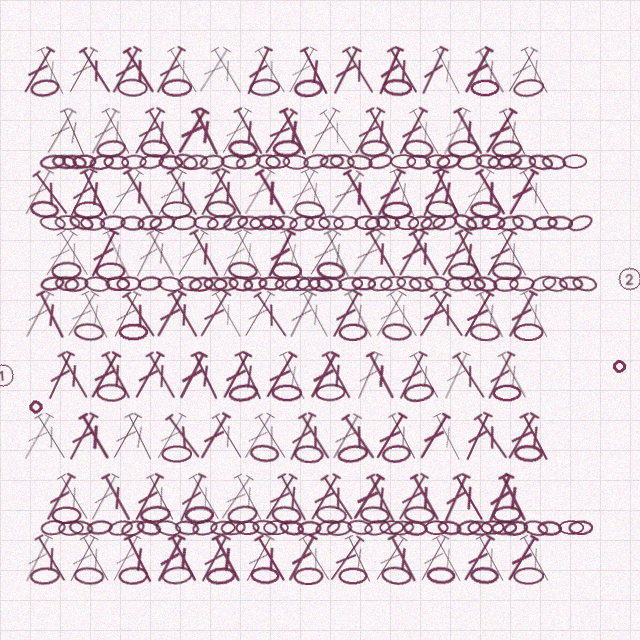chain: (402, 381, 435, 404), (226, 503, 259, 526), (512, 77, 545, 99), (336, 443, 369, 465), (270, 504, 303, 526), (29, 77, 61, 99), (95, 138, 127, 160), (227, 382, 259, 404), (402, 138, 435, 159), (380, 565, 413, 586), (205, 199, 237, 220), (425, 199, 457, 220), (315, 260, 347, 281), (139, 504, 171, 525), (315, 504, 347, 525), (161, 565, 193, 586), (227, 138, 258, 159), (29, 199, 60, 220), (227, 260, 258, 281), (249, 443, 280, 464), (381, 443, 412, 464), (451, 211, 479, 234), (447, 139, 479, 159), (491, 139, 523, 159), (293, 200, 325, 220), (469, 200, 501, 220), (447, 261, 479, 281), (73, 322, 105, 342), (469, 322, 501, 342), (403, 505, 435, 525), (29, 566, 61, 586), (73, 566, 105, 586), (221, 212, 250, 234), (566, 212, 595, 234), (293, 78, 324, 98), (491, 261, 522, 281), (381, 322, 412, 342), (293, 444, 324, 464), (359, 505, 390, 525), (205, 566, 236, 586), (119, 517, 147, 539), (234, 151, 263, 172), (205, 212, 234, 233), (529, 273, 558, 294), (117, 78, 148, 97), (161, 78, 192, 97), (249, 78, 280, 97), (359, 139, 390, 158), (51, 261, 82, 280), (271, 261, 302, 280), (315, 383, 346, 402), (513, 444, 544, 463), (469, 566, 500, 585), (172, 151, 200, 172), (67, 212, 95, 233), (419, 212, 447, 233), (510, 212, 538, 233), (314, 517, 342, 538), (382, 78, 412, 97), (140, 139, 170, 158), (272, 139, 302, 158), (96, 383, 126, 402), (184, 505, 214, 524), (492, 505, 522, 524), (118, 566, 148, 585), (250, 566, 280, 585), (426, 566, 456, 585), (288, 213, 316, 233), (154, 518, 182, 538), (73, 201, 104, 219), (161, 201, 192, 219), (381, 201, 412, 219), (95, 262, 126, 280), (513, 323, 544, 341), (271, 384, 302, 402), (161, 445, 192, 463), (51, 506, 82, 524), (293, 567, 324, 585), (513, 567, 544, 585), (470, 79, 500, 97), (88, 152, 115, 172), (527, 152, 554, 172), (472, 274, 499, 294), (118, 323, 148, 341), (338, 323, 368, 341), (492, 384, 522, 402), (107, 518, 134, 538), (135, 518, 162, 538), (522, 518, 549, 538), (338, 567, 368, 585), (302, 152, 330, 171), (379, 274, 407, 293), (395, 274, 423, 293), (191, 518, 219, 537), (251, 518, 279, 537), (346, 518, 374, 537), (363, 518, 391, 537), (138, 152, 165, 171), (367, 152, 394, 171), (435, 152, 462, 171), (136, 213, 163, 232), (431, 213, 458, 232), (39, 274, 66, 293), (227, 274, 254, 293), (571, 274, 598, 293), (278, 518, 305, 537), (455, 518, 482, 537), (148, 214, 176, 232), (83, 275, 111, 293), (541, 275, 569, 293), (39, 153, 66, 171), (182, 153, 209, 171), (346, 153, 373, 171), (456, 153, 483, 171), (39, 214, 66, 232), (497, 214, 524, 232), (63, 275, 90, 293), (157, 275, 184, 293), (242, 275, 269, 293), (316, 275, 343, 293), (326, 519, 353, 537), (388, 519, 415, 537), (436, 519, 463, 537), (502, 519, 529, 537), (51, 153, 77, 171), (61, 153, 87, 171), (199, 153, 225, 171), (541, 153, 567, 171), (364, 214, 390, 232), (407, 214, 433, 232), (188, 275, 214, 293), (307, 275, 333, 293), (408, 275, 434, 293), (460, 275, 486, 293), (68, 519, 94, 537), (174, 519, 200, 537), (54, 214, 81, 231), (99, 214, 126, 231), (284, 275, 311, 292), (86, 519, 113, 536), (255, 153, 281, 170), (319, 153, 345, 170), (329, 153, 355, 170), (475, 153, 501, 170), (497, 153, 523, 170), (171, 214, 197, 231), (259, 214, 285, 231), (375, 214, 401, 231), (465, 214, 491, 231), (54, 275, 80, 292), (137, 275, 163, 292), (177, 275, 203, 292), (274, 275, 300, 292), (367, 275, 393, 292), (424, 275, 450, 292), (558, 275, 584, 292), (40, 519, 66, 536), (220, 519, 246, 536), (220, 154, 247, 170), (282, 154, 309, 170), (304, 215, 331, 231), (103, 154, 129, 170), (121, 154, 147, 170), (487, 154, 513, 170), (193, 215, 219, 231), (249, 215, 275, 231), (272, 215, 298, 231), (318, 215, 344, 231), (532, 215, 558, 231), (547, 215, 573, 231), (213, 276, 239, 292), (445, 276, 471, 292), (493, 276, 519, 292), (509, 276, 535, 292), (58, 520, 84, 536), (210, 520, 236, 536), (402, 520, 428, 536), (467, 520, 493, 536), (491, 520, 517, 536), (158, 154, 183, 170), (406, 154, 431, 170), (511, 154, 536, 170), (80, 215, 105, 231), (120, 215, 145, 231), (237, 215, 262, 231), (333, 215, 358, 231), (203, 276, 228, 292), (296, 276, 321, 292), (338, 276, 363, 292), (297, 520, 322, 536), (537, 520, 562, 536), (390, 154, 416, 169), (354, 215, 380, 230), (258, 276, 284, 291), (263, 520, 289, 535), (558, 520, 584, 535), (72, 154, 97, 169), (265, 154, 290, 169), (425, 154, 450, 169), (562, 154, 587, 169), (394, 215, 419, 230), (481, 215, 506, 230), (105, 276, 130, 291), (116, 276, 141, 291), (351, 276, 376, 291), (235, 520, 260, 535), (379, 520, 404, 535), (424, 520, 449, 535), (480, 520, 505, 535), (568, 520, 593, 535)
double: (29, 167, 74, 219), (426, 288, 470, 341), (324, 167, 368, 219), (470, 411, 514, 463), (192, 44, 235, 97), (346, 227, 389, 280), (162, 411, 206, 462), (258, 106, 301, 158), (316, 106, 359, 158), (250, 289, 293, 341), (338, 411, 381, 463), (214, 472, 257, 524), (324, 533, 367, 585), (75, 44, 117, 97), (119, 44, 161, 97), (171, 105, 213, 158), (479, 105, 521, 158), (237, 166, 279, 219), (251, 166, 293, 219), (53, 227, 95, 280), (303, 227, 345, 280), (193, 288, 235, 341), (259, 349, 301, 402), (207, 410, 249, 463), (251, 410, 293, 463), (369, 410, 411, 463), (53, 471, 95, 524), (295, 532, 337, 585), (471, 44, 512, 98), (141, 105, 182, 159), (405, 105, 446, 159), (339, 166, 380, 220), (457, 288, 498, 342), (405, 349, 446, 403), (17, 410, 58, 464), (325, 410, 366, 464), (105, 167, 147, 219), (39, 228, 81, 280), (119, 289, 161, 341), (449, 350, 491, 402), (317, 472, 359, 524), (369, 533, 411, 585), (17, 44, 58, 97), (163, 44, 204, 97), (207, 44, 248, 97), (251, 44, 292, 97), (339, 44, 380, 97), (383, 44, 424, 97), (501, 44, 542, 97), (215, 105, 256, 158), (119, 166, 160, 219), (163, 166, 204, 219), (457, 166, 498, 219), (471, 166, 512, 219), (171, 227, 212, 280), (405, 227, 446, 280), (435, 227, 476, 280), (61, 288, 102, 341), (369, 288, 410, 341), (383, 288, 424, 341), (413, 288, 454, 341), (31, 410, 72, 463), (75, 410, 116, 463), (237, 410, 278, 463), (295, 410, 336, 463), (413, 410, 454, 463), (501, 410, 542, 463), (185, 471, 226, 524), (259, 471, 300, 524), (347, 471, 388, 524), (449, 471, 490, 524), (31, 532, 72, 585), (251, 532, 292, 585), (457, 532, 498, 585), (501, 532, 542, 585), (84, 105, 124, 159), (150, 166, 190, 220), (18, 288, 58, 342), (62, 410, 102, 464), (62, 532, 102, 586), (194, 532, 234, 586), (238, 532, 278, 586), (428, 532, 468, 586), (62, 44, 102, 97), (40, 105, 80, 158), (128, 105, 168, 158), (304, 105, 344, 158), (348, 105, 388, 158), (208, 166, 248, 219), (282, 166, 322, 219), (502, 166, 542, 219), (516, 166, 556, 219), (362, 227, 402, 280), (392, 227, 432, 280), (480, 227, 520, 280), (494, 227, 534, 280), (150, 288, 190, 341), (164, 288, 204, 341), (208, 288, 248, 341), (238, 288, 278, 341), (54, 349, 94, 402), (84, 349, 124, 402), (128, 349, 168, 402), (142, 349, 182, 402), (106, 410, 146, 463), (150, 410, 190, 463), (194, 410, 234, 463), (304, 471, 344, 524), (392, 471, 432, 524), (406, 471, 446, 524), (76, 532, 116, 585), (516, 532, 556, 585), (296, 44, 335, 98), (326, 44, 365, 98), (436, 105, 475, 159), (76, 166, 115, 220), (84, 227, 123, 281), (32, 288, 71, 342), (282, 288, 321, 342), (472, 288, 511, 342), (392, 349, 431, 403), (120, 410, 159, 464), (516, 410, 555, 464), (494, 471, 533, 525), (18, 532, 57, 586), (120, 532, 159, 586), (106, 44, 145, 97), (150, 44, 189, 97), (282, 44, 321, 97), (458, 44, 497, 97), (98, 105, 137, 158), (230, 105, 269, 158), (362, 105, 401, 158), (392, 105, 431, 158), (450, 105, 489, 158), (18, 166, 57, 219), (194, 166, 233, 219), (142, 227, 181, 280), (186, 227, 225, 280), (216, 227, 255, 280), (230, 227, 269, 280), (296, 288, 335, 341), (326, 288, 365, 341), (340, 288, 379, 341), (502, 288, 541, 341), (516, 288, 555, 341), (98, 349, 137, 402), (216, 349, 255, 402), (304, 349, 343, 402), (318, 349, 357, 402), (362, 349, 401, 402), (494, 349, 533, 402), (384, 410, 423, 463), (40, 471, 79, 524), (84, 471, 123, 524), (98, 471, 137, 524), (128, 471, 167, 524), (142, 471, 181, 524), (230, 471, 269, 524), (274, 471, 313, 524), (106, 532, 145, 585), (164, 532, 203, 585), (208, 532, 247, 585), (282, 532, 321, 585), (384, 532, 423, 585), (414, 532, 453, 585), (472, 532, 511, 585), (33, 44, 71, 98), (429, 44, 467, 98), (187, 105, 225, 159), (275, 105, 313, 159), (495, 105, 533, 159), (63, 166, 101, 220), (371, 166, 409, 220), (99, 227, 137, 281), (129, 227, 167, 281), (261, 227, 299, 281), (319, 227, 357, 281), (77, 288, 115, 342), (107, 288, 145, 342), (41, 349, 79, 403), (173, 349, 211, 403), (437, 349, 475, 403), (481, 349, 519, 403), (429, 410, 467, 464), (363, 471, 401, 525), (151, 532, 189, 586), (517, 44, 555, 97), (415, 44, 452, 98), (297, 166, 334, 220), (429, 166, 466, 220), (451, 227, 488, 281), (187, 349, 224, 403), (231, 349, 268, 403), (275, 349, 312, 403), (283, 410, 320, 464), (459, 410, 496, 464), (173, 471, 210, 525), (437, 471, 474, 525), (341, 532, 378, 586), (240, 44, 276, 98), (56, 105, 92, 159), (386, 166, 422, 220), (416, 166, 452, 220), (350, 349, 386, 403), (482, 471, 518, 525), (372, 44, 407, 98), (276, 227, 311, 281)
noise: (616, 265, 640, 292), (0, 361, 16, 389), (27, 398, 44, 415), (611, 358, 628, 375)
